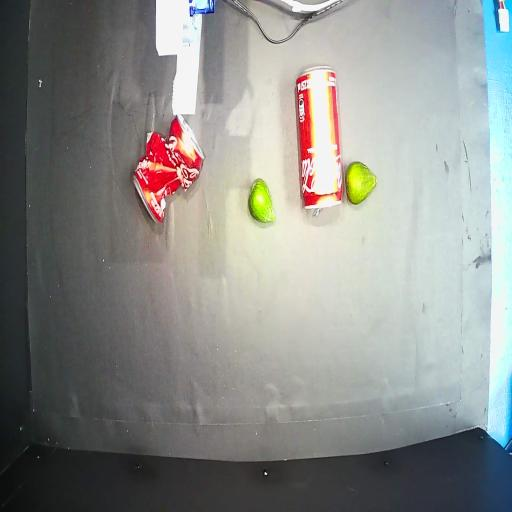higo: (345, 162, 377, 204), (248, 178, 275, 223)
lata: (295, 66, 342, 209)
lata_defectuoso: (133, 115, 204, 223)
